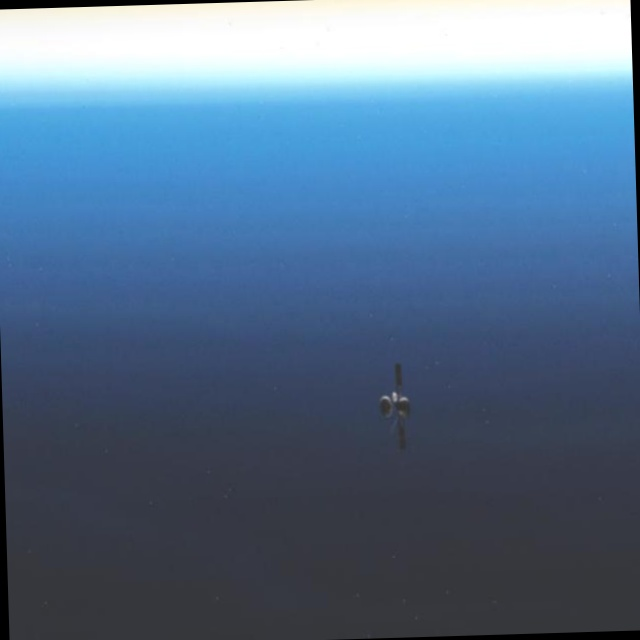satellite: (367, 337, 433, 460)
